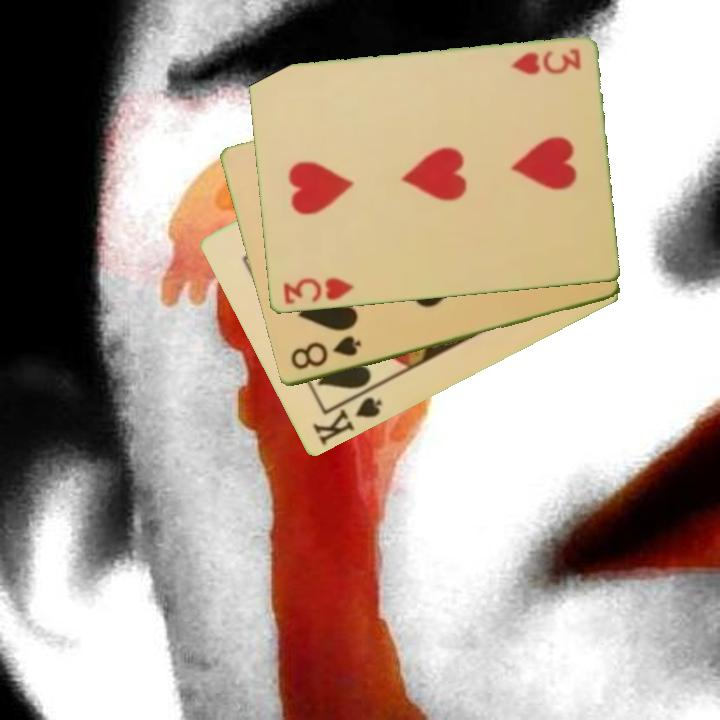3h: (279, 274, 357, 308), (507, 45, 584, 78)
8s: (286, 332, 364, 373)
Ks: (308, 394, 385, 449)
